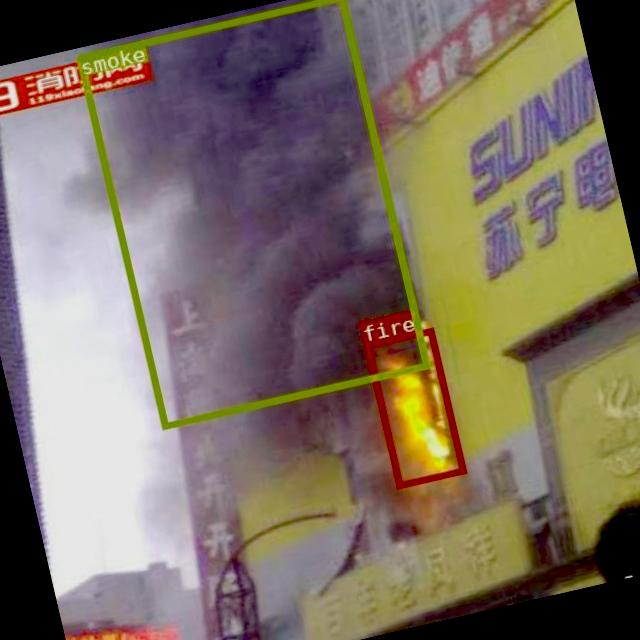fire: (362, 328, 464, 488)
smoke: (75, 0, 428, 429)
